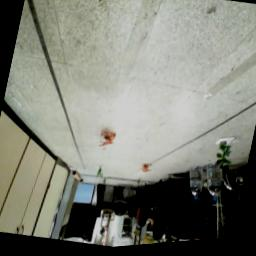herb: (213, 142, 238, 174), (96, 168, 106, 180)
wild: (98, 131, 118, 152), (141, 164, 154, 178)
